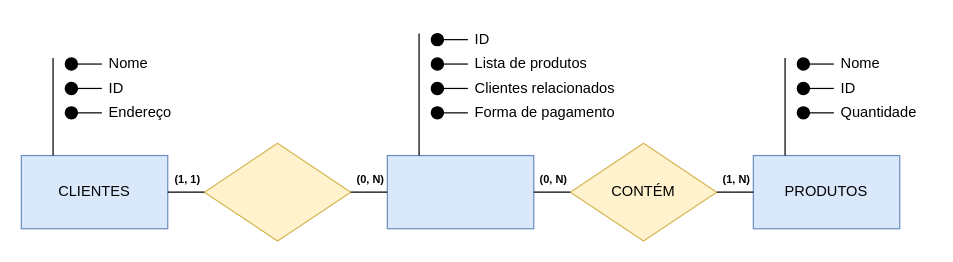
This 953x262 diagram has some shape labels left out. Each missing label, with the centre of its shape:
"PEDIDOS" goes at [460,191].
"REALIZA" goes at [277,191].
